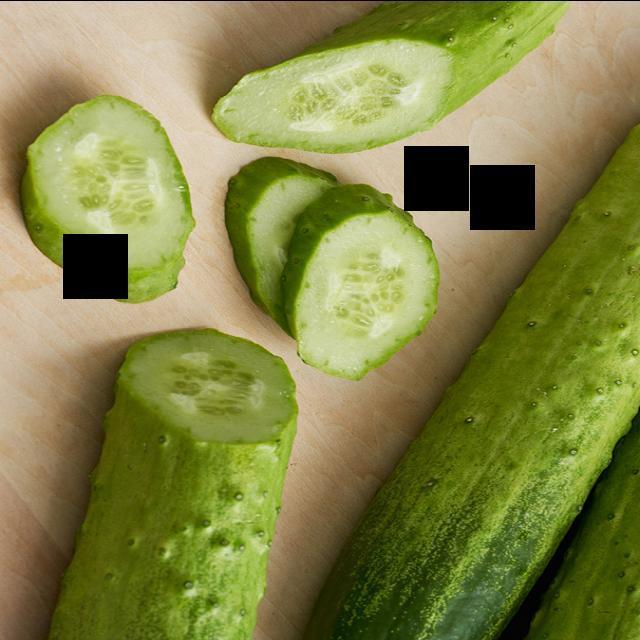cucumber: (96, 319, 307, 640), (213, 0, 579, 154), (3, 62, 212, 310), (264, 165, 454, 383)
